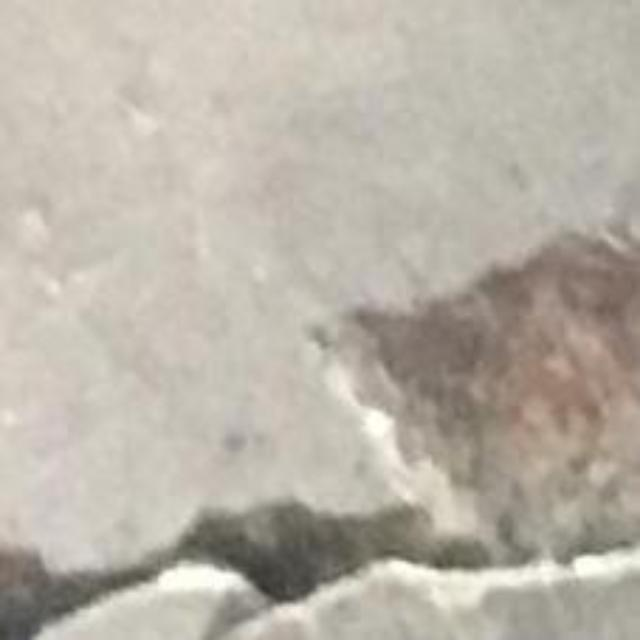crack: (0, 502, 490, 639)
peeling plaster: (313, 212, 639, 561)
